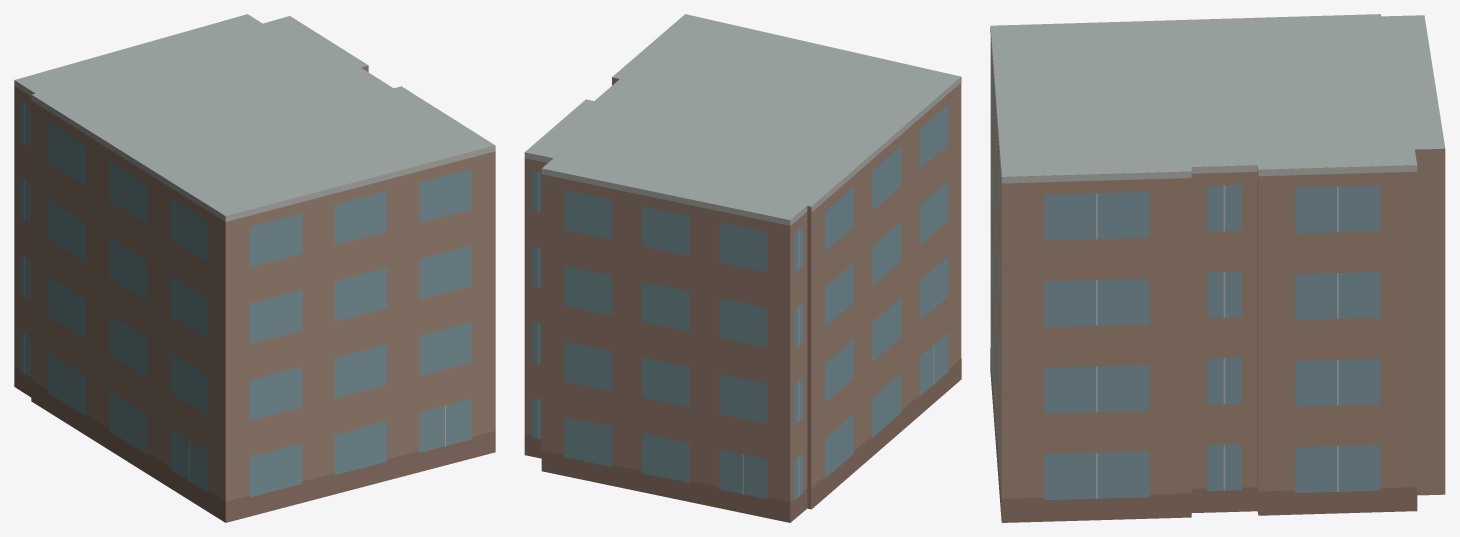
Rendered from survey-upis-32724945.glb.
3 renders of one model, left to right at view 1: azimuth 30°, elevation 25°; view 2: azimuth 150°, elevation 25°; view 3: azimuth 270°, elevation 25°, orthographic. The views are drawn at different scales.
Parts seen in each view (by area): view 1: survey-upis-32724945.tmp; view 2: survey-upis-32724945.tmp; view 3: survey-upis-32724945.tmp.
Part boxes in pixels (x1,y1,x2,y2): survey-upis-32724945.tmp: (14,14,495,522); survey-upis-32724945.tmp: (524,14,961,522); survey-upis-32724945.tmp: (990,14,1445,522).
Size of the model in its own units: 12.99 by 12.85 by 15.32.
